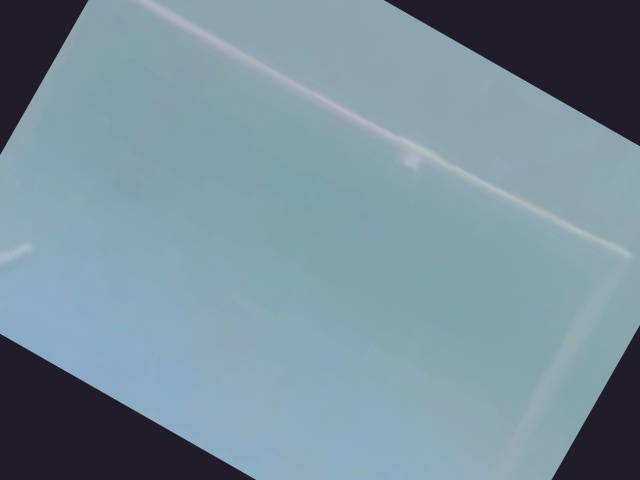gate: (130, 2, 631, 477)
